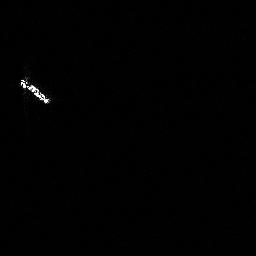ship: (19, 75, 50, 105)
